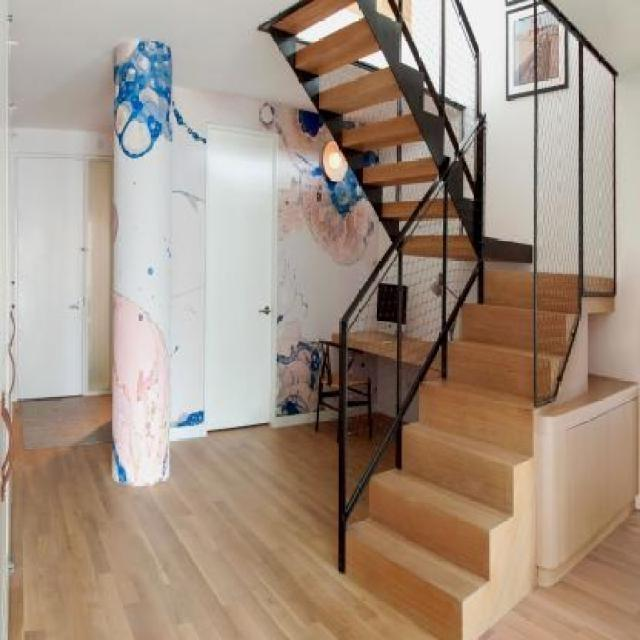stair: (344, 224, 638, 638), (273, 6, 502, 225)
